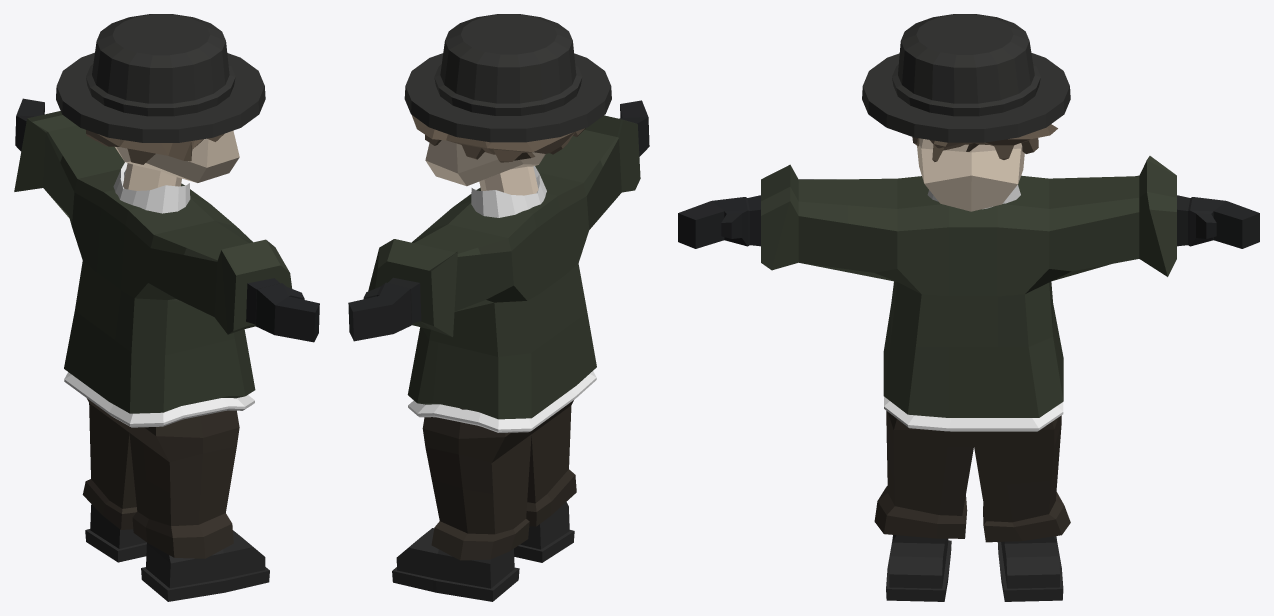
Rendered from svetliy_igrok.fbx.
3 views of the same model, side by side, from view 1: azimuth 30°, elevation 25°; view 2: azimuth 150°, elevation 25°; view 3: azimuth 270°, elevation 25° (orthographic).
Parts seen in each view (by area): view 1: Cube.002, Cylinder, Cube.003, Cube.004, Cube.006, Cube, Cube.005, Circle, Icosphere, Cube.001, Cube.007; view 2: Cube.002, Cylinder, Cube.003, Cube.005, Cube.007, Cube, Icosphere, Cube.004, Circle, Cube.001, Cube.006; view 3: Cube.002, Cylinder, Cube.003, Cube, Cube.004, Cube.005, Cube.006, Cube.007, Icosphere.
Boxes of the visible parts, x1=… form: Cube.002: x1=14, y1=111, x2=292, y2=427; Cylinder: x1=56, y1=14, x2=265, y2=142; Cube.003: x1=82, y1=398, x2=239, y2=558; Cube.004: x1=141, y1=530, x2=269, y2=601; Cube.006: x1=246, y1=278, x2=319, y2=342; Cube: x1=115, y1=130, x2=239, y2=182; Cube.005: x1=85, y1=504, x2=146, y2=562; Circle: x1=113, y1=162, x2=190, y2=213; Icosphere: x1=86, y1=130, x2=224, y2=164; Cube.001: x1=123, y1=163, x2=181, y2=190; Cube.007: x1=15, y1=98, x2=44, y2=151; Cube.002: x1=368, y1=115, x2=640, y2=432; Cylinder: x1=404, y1=14, x2=611, y2=142; Cube.003: x1=422, y1=400, x2=576, y2=560; Cube.005: x1=392, y1=528, x2=519, y2=601; Cube.007: x1=348, y1=277, x2=421, y2=341; Cube: x1=425, y1=140, x2=545, y2=186; Icosphere: x1=412, y1=115, x2=585, y2=162; Cube.004: x1=514, y1=502, x2=574, y2=562; Circle: x1=471, y1=166, x2=546, y2=217; Cube.001: x1=479, y1=166, x2=538, y2=195; Cube.006: x1=619, y1=100, x2=649, y2=156; Cube.002: x1=761, y1=156, x2=1176, y2=431; Cylinder: x1=862, y1=14, x2=1070, y2=142; Cube.003: x1=874, y1=411, x2=1070, y2=542; Cube: x1=917, y1=138, x2=1024, y2=211; Cube.004: x1=886, y1=535, x2=951, y2=601; Cube.005: x1=997, y1=536, x2=1063, y2=601; Cube.006: x1=678, y1=195, x2=760, y2=248; Cube.007: x1=1177, y1=195, x2=1259, y2=248; Icosphere: x1=912, y1=124, x2=1057, y2=161.
Size of the model in its own units: 300 by 859 by 850.
